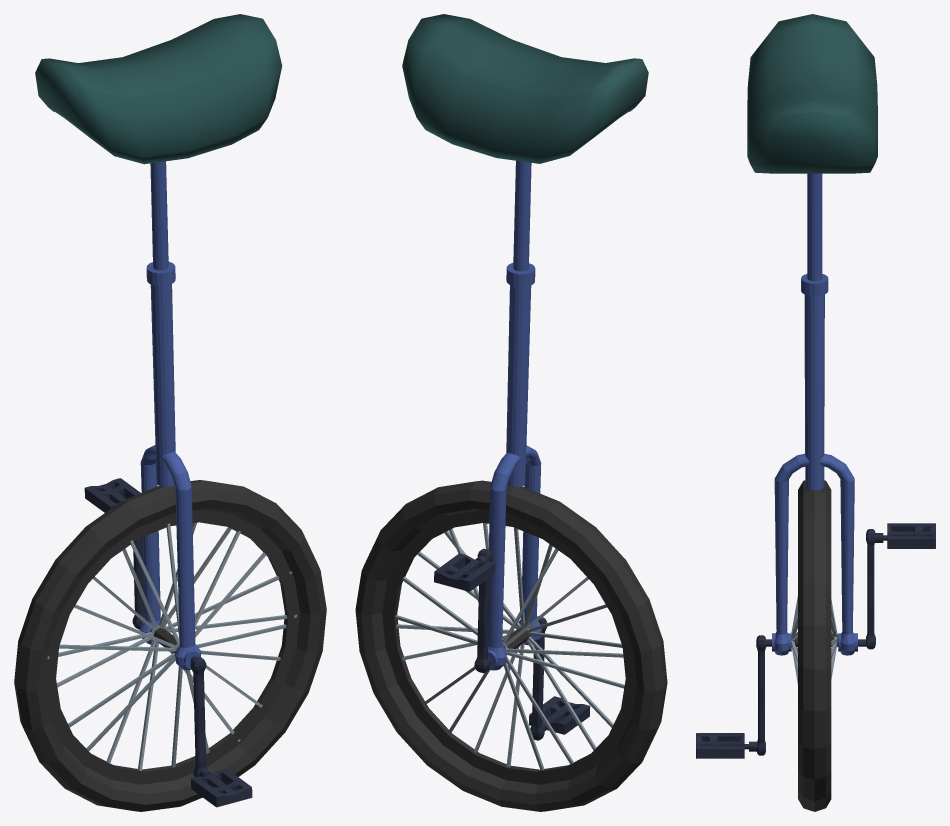
Rendered from unicyclem.fbx.
The picture shows the model from 3 angles, left to right: view 1: azimuth 30°, elevation 25°; view 2: azimuth 150°, elevation 25°; view 3: azimuth 270°, elevation 25°; orthographic projection. The views are drawn at different scales.
Visible parts, largest first — view 1: Torus.001, Cube.001, Cylinder.004; view 2: Torus.001, Cube.001, Cylinder.004; view 3: Cube.001, Torus.001, Cylinder.004.
Boxes of the visible parts, x1,y1,x2,y2 form: Torus.001: (14,480,326,811); Cube.001: (35,14,282,670); Cylinder.004: (84,478,252,807); Torus.001: (355,480,667,811); Cube.001: (402,14,648,670); Cylinder.004: (434,548,590,740); Cube.001: (747,14,877,655); Torus.001: (791,480,838,811); Cylinder.004: (696,523,935,758).
Size of the model in its own units: 371 by 886 by 264.
Materials: 3 (1 with a texture image).
